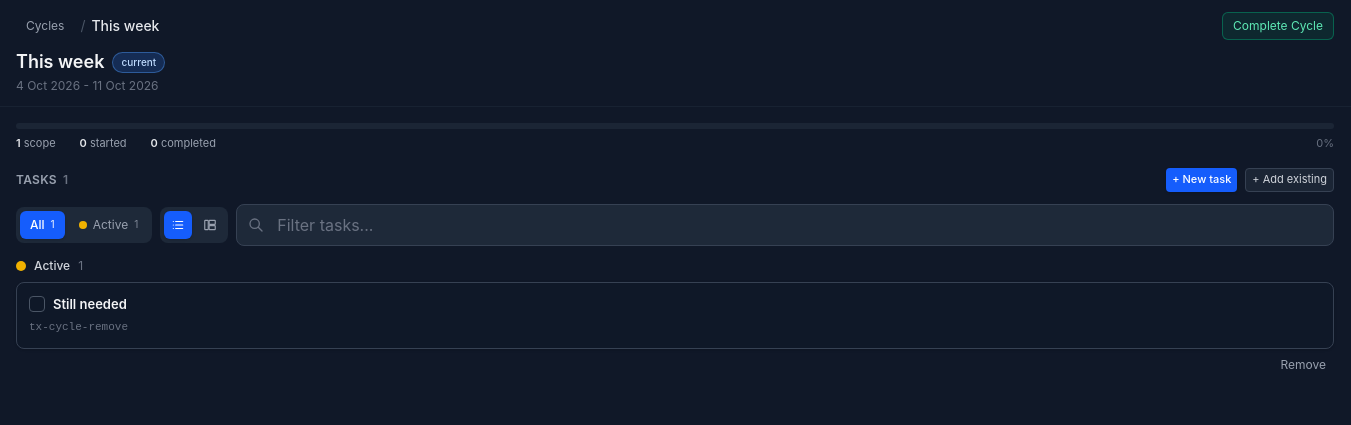
Test: CycleDetail › shows a failed removal and allows retry without hiding the task
Step 1. Click the button with aria-label "Remove Still needed from cycle" → click(1303, 364), box [1272,352,1334,376]
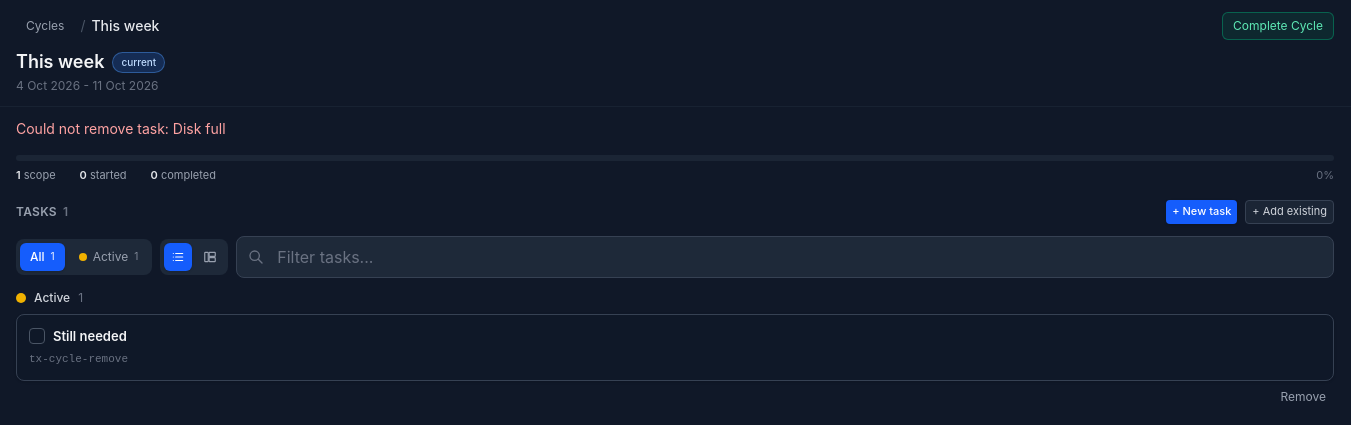
Expected: the button with aria-label "View task: Still needed" is shown, [16,314,1334,380]
Result: the message reads "Could not remove task: Disk full" at [16,120,226,137]
Step 2. Click the button with aria-label "Remove Still needed from cycle" → click(1303, 396), box [1272,384,1334,408]
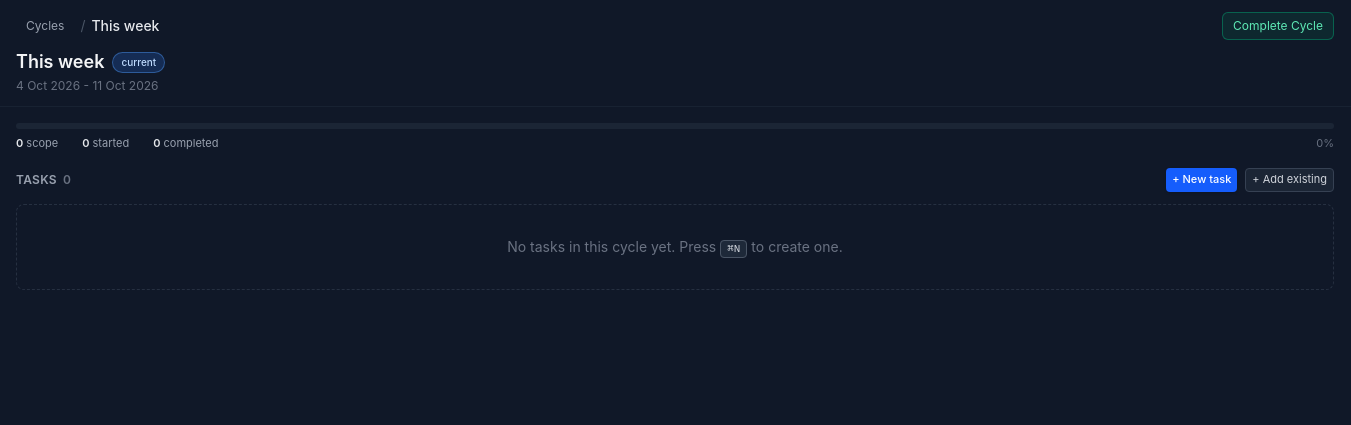
Result: the message "Could not remove task: Disk full" is gone
